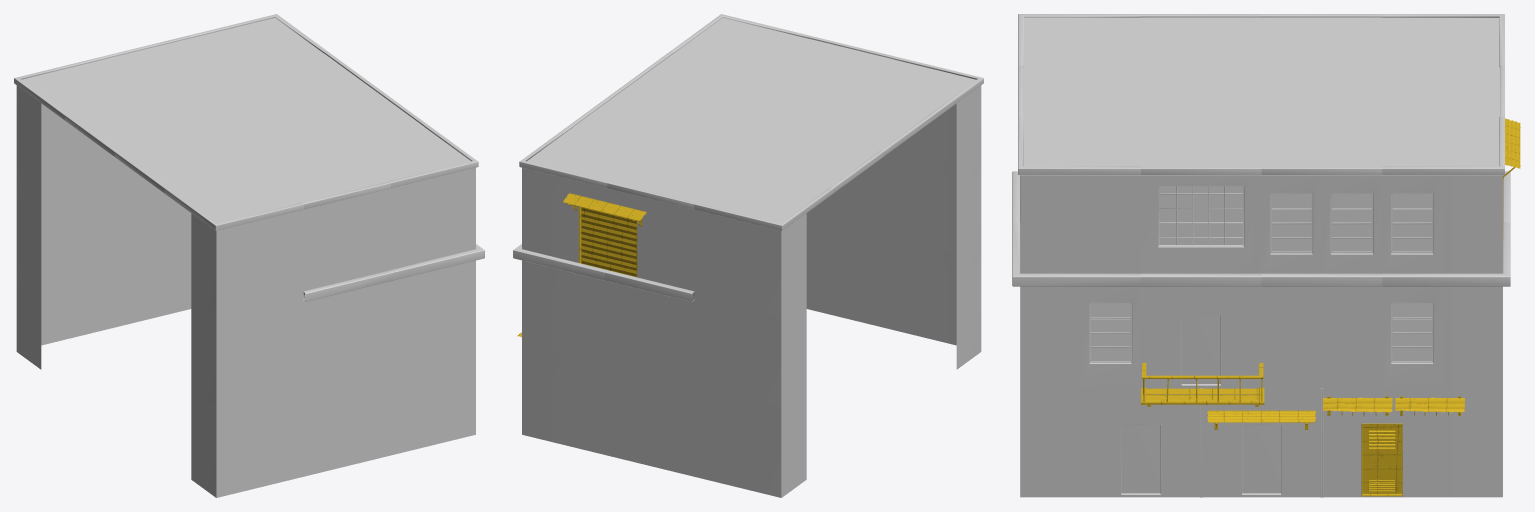
The model's file is HOTRUN_PIZZA_6.fbx.
The picture shows the model from 3 angles, left to right: view 1: azimuth 30°, elevation 25°; view 2: azimuth 150°, elevation 25°; view 3: azimuth 270°, elevation 25°; orthographic projection. The views are drawn at different scales.
Parts seen in each view (by area): view 1: 3*3.2534, 3*3.2552, 3*3.2549, 3*3.2551, 3*3.2550, 3*3.2548, 3*3.2547, 3*3.2533, 3*3.2554, 3*3.2555, 3*3.2553, 3*3.2144 (+27 smaller); view 2: 3*3.2552, 3*3.2534, 3*3.2536, 3*3.2533, 3*3.2152, 3*3.2535, 3*3.2551, 3*3.2537, 3*3.2538, 3*3.2153, 3*3.2144, 3*3.2145 (+29 smaller); view 3: 3*3.2093, 3*3.2082, 3*3.2095, 3*3.2086, 3*3.2077, 3*3.2130, 3*3.2545, 3*3.2529, 3*3.2145, 3*3.2144, 3*3.2546, 3*3.2530 (+43 smaller).
Boxes of the visible parts, bbox=[...] form: 3*3.2534: bbox=[59, 229, 146, 340]; 3*3.2552: bbox=[259, 376, 346, 487]; 3*3.2549: bbox=[346, 354, 432, 466]; 3*3.2551: bbox=[259, 292, 346, 396]; 3*3.2550: bbox=[259, 199, 346, 305]; 3*3.2548: bbox=[346, 271, 432, 375]; 3*3.2547: bbox=[346, 178, 432, 280]; 3*3.2533: bbox=[59, 149, 146, 250]; 3*3.2554: bbox=[191, 298, 259, 407]; 3*3.2555: bbox=[191, 389, 259, 497]; 3*3.2553: bbox=[191, 213, 259, 316]; 3*3.2144: bbox=[203, 110, 339, 168]; 3*3.2552: bbox=[851, 229, 938, 340]; 3*3.2534: bbox=[651, 376, 738, 487]; 3*3.2536: bbox=[565, 354, 651, 466]; 3*3.2533: bbox=[651, 292, 738, 396]; 3*3.2152: bbox=[651, 199, 738, 305]; 3*3.2535: bbox=[565, 271, 651, 375]; 3*3.2551: bbox=[851, 149, 938, 250]; 3*3.2537: bbox=[738, 298, 806, 407]; 3*3.2538: bbox=[738, 389, 806, 497]; 3*3.2153: bbox=[738, 213, 806, 316]; 3*3.2144: bbox=[708, 74, 844, 131]; 3*3.2145: bbox=[658, 110, 794, 168]; 3*3.2093: bbox=[1261, 286, 1382, 387]; 3*3.2082: bbox=[1080, 388, 1199, 497]; 3*3.2095: bbox=[1141, 286, 1261, 387]; 3*3.2086: bbox=[1323, 388, 1442, 497]; 3*3.2077: bbox=[1202, 388, 1320, 497]; 3*3.2130: bbox=[1141, 175, 1261, 273]; 3*3.2545: bbox=[1020, 388, 1080, 497]; 3*3.2529: bbox=[1442, 388, 1502, 497]; 3*3.2145: bbox=[1261, 67, 1382, 118]; 3*3.2144: bbox=[1141, 67, 1261, 118]; 3*3.2546: bbox=[1020, 286, 1080, 387]; 3*3.2530: bbox=[1442, 286, 1502, 387].
Size of the model in its own units: 9.95 by 9.05 by 12.64.
